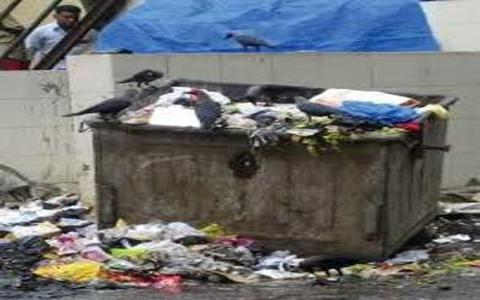overflowing garbage: (7, 73, 462, 284)
